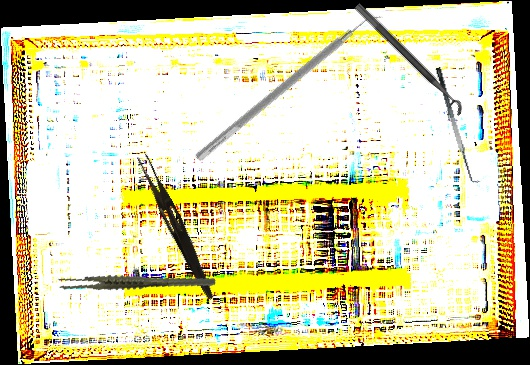Dressing Forceps: (131, 152, 222, 302)
Fixation Ring: (345, 2, 467, 123)
Spatula Surgical: (194, 3, 387, 171), (435, 64, 482, 186)
Tissue Forceps: (55, 250, 218, 316)
